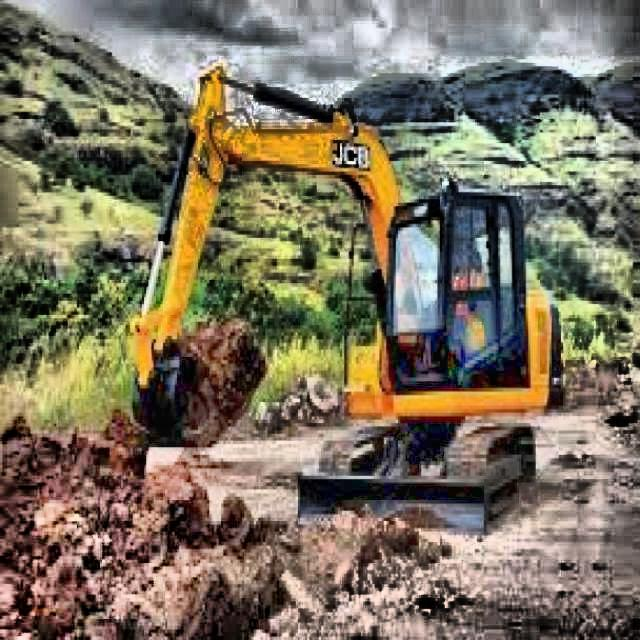bull_dozer/loader/grader: (127, 60, 566, 538)
person: (452, 240, 490, 318)
